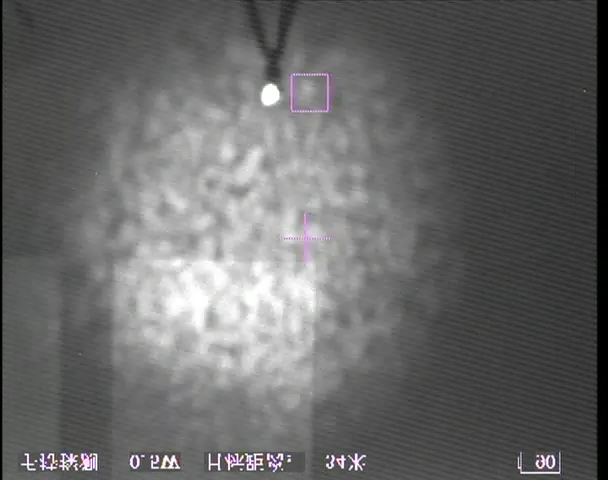my: (258, 79, 281, 109)
